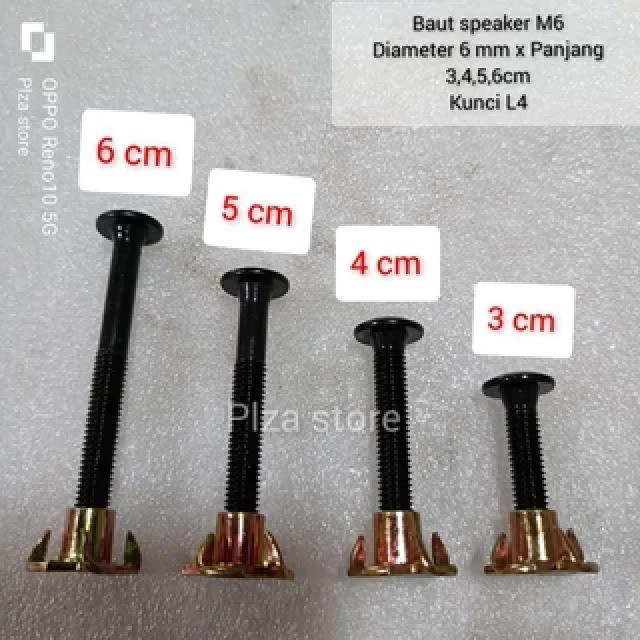Logam: (37, 118, 624, 605)
